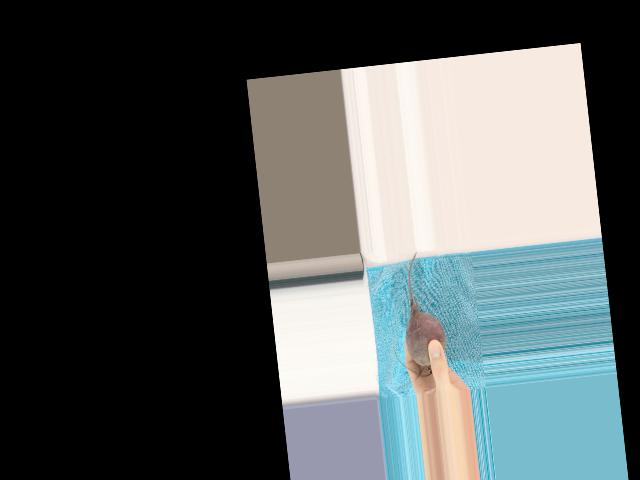beet: (384, 249, 450, 379)
